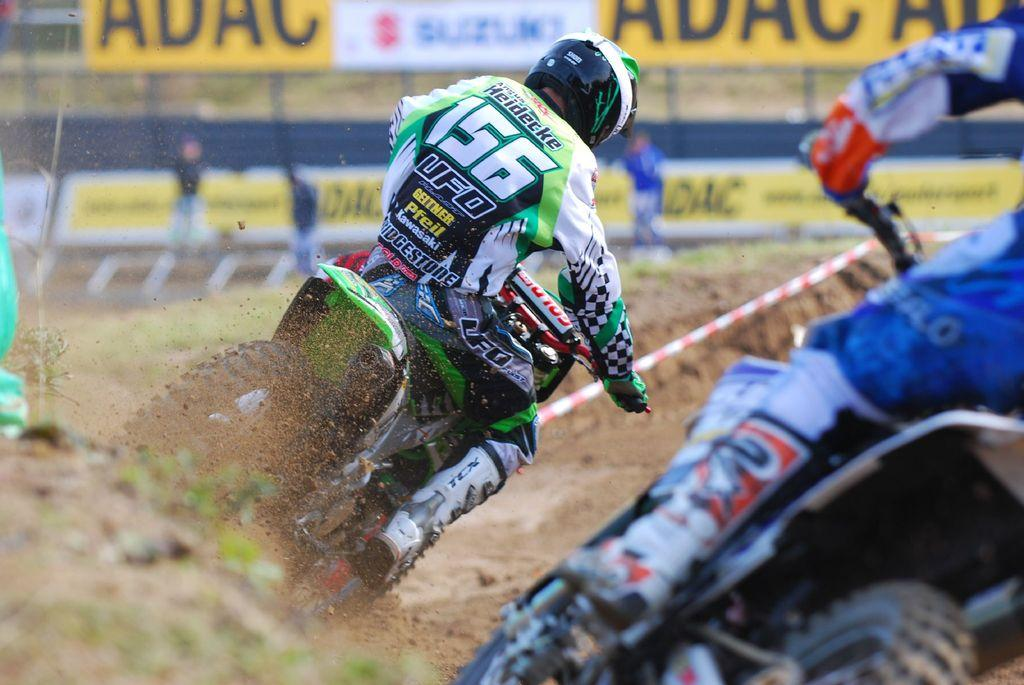helmet: (522, 31, 641, 160)
